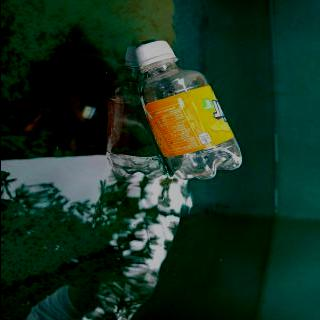bottle: (134, 39, 243, 181)
